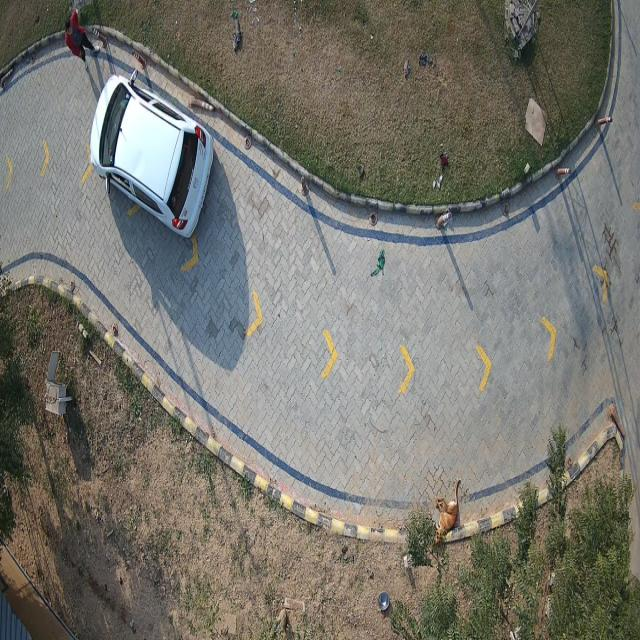car: (89, 73, 214, 241)
